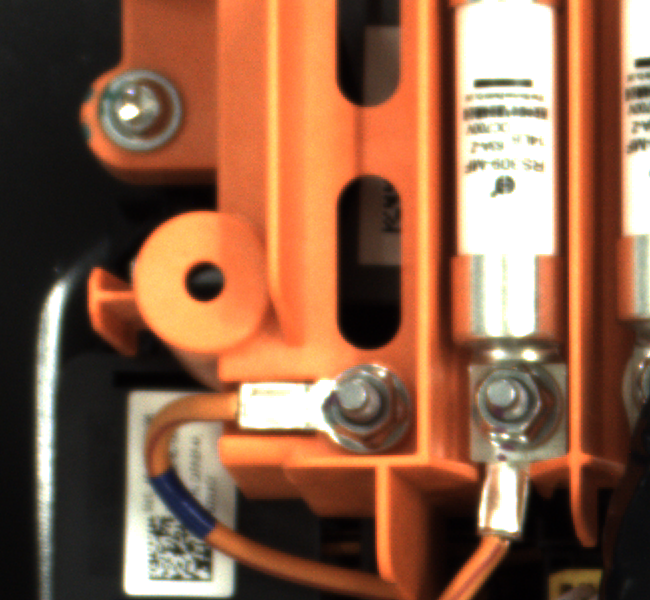screw_m: (86, 65, 205, 158)
screw_s: (456, 358, 554, 448), (322, 358, 413, 451)
